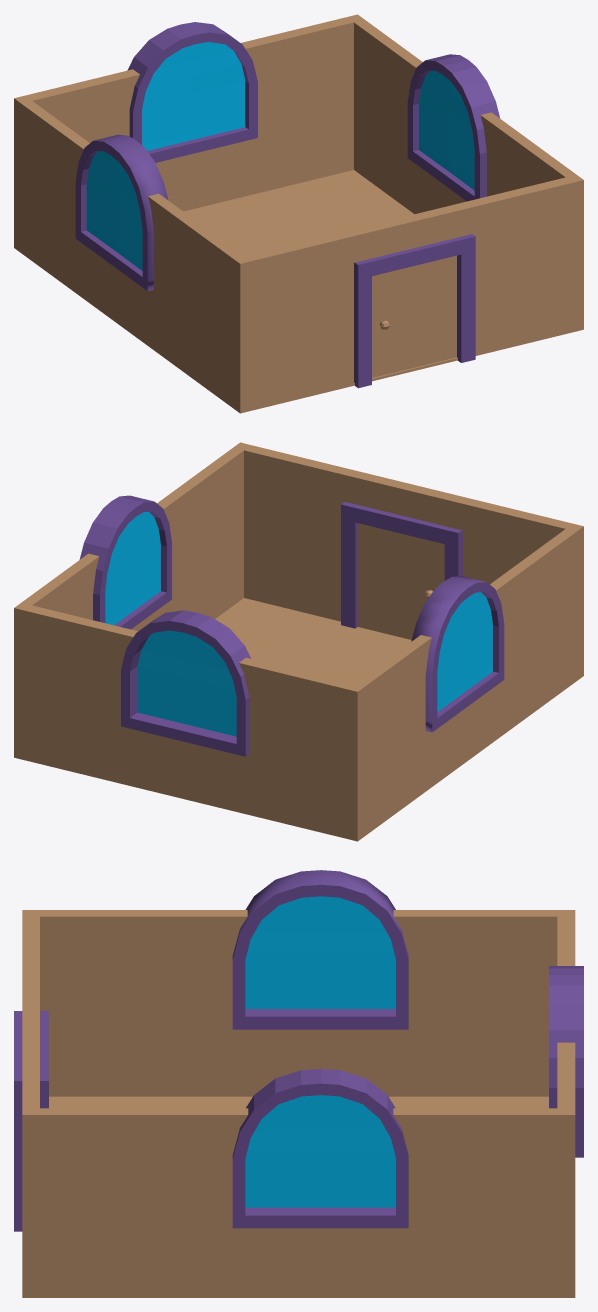
The model's file is CajaCasa 1.1 Interior.fbx.
3 renders of one model, top to bottom at view 1: azimuth 30°, elevation 25°; view 2: azimuth 150°, elevation 25°; view 3: azimuth 270°, elevation 25°, orthographic. The views are drawn at different scales.
Parts seen in each view (by area): view 1: Cube.021; view 2: Cube.021; view 3: Cube.021.
Part boxes in pixels (x1,y1,x2,y2): Cube.021: [14, 14, 583, 413]; Cube.021: [14, 442, 583, 841]; Cube.021: [14, 870, 583, 1297].
Size of the model in its own units: 1015 by 488 by 1149.
